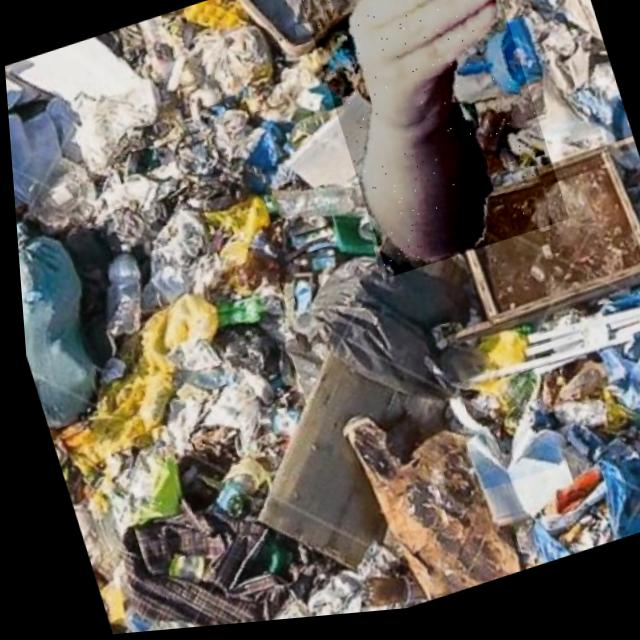Person in Rubble: (293, 0, 567, 289)
